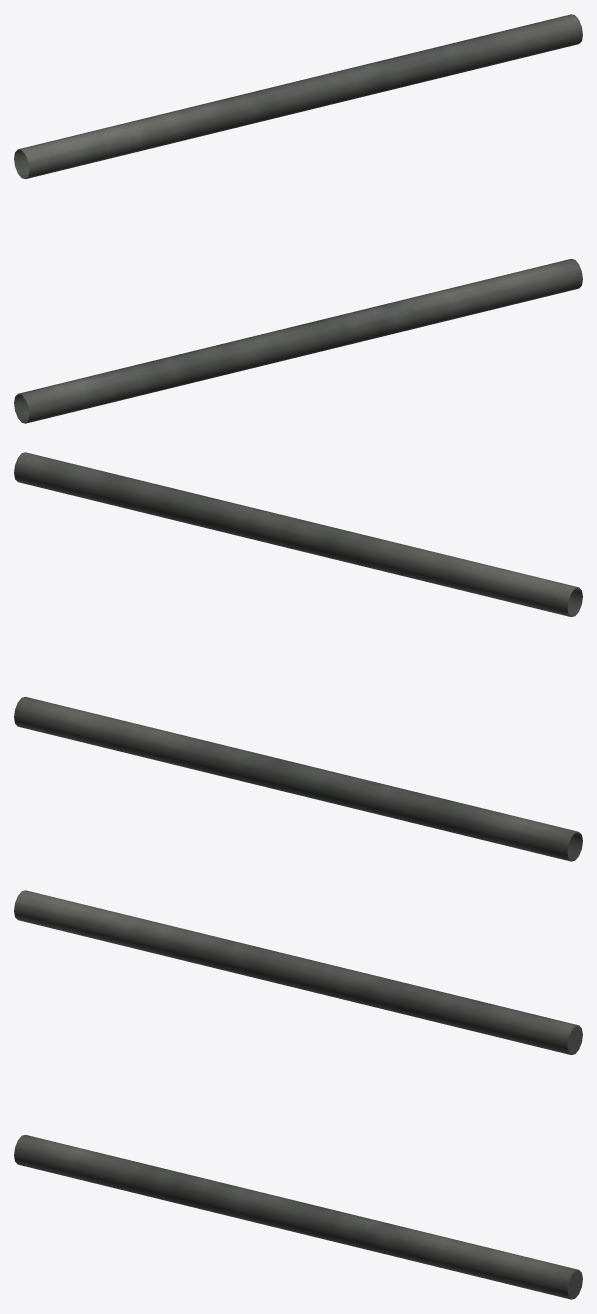
The model's file is pedReach-v1.glb.
3 renders of one model, top to bottom at view 1: azimuth 30°, elevation 25°; view 2: azimuth 150°, elevation 25°; view 3: azimuth 330°, elevation 25°, orthographic.
Parts seen in each view (by area): view 1: pedReach-v1; view 2: pedReach-v1; view 3: pedReach-v1.
Part boxes in pixels (x1,y1,x2,y2): pedReach-v1: (14,14,582,423); pedReach-v1: (14,452,582,861); pedReach-v1: (14,890,582,1299).
Size of the model in its own units: 1 by 0.4703 by 0.0483.
1 material, 1 textured.
